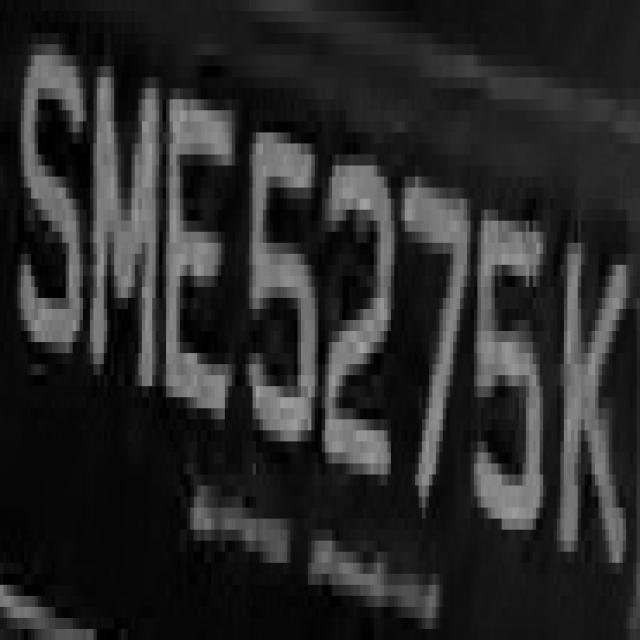2: (318, 110, 402, 552)
5: (464, 143, 550, 574), (246, 88, 322, 474)
7: (388, 132, 470, 530)
E: (166, 55, 232, 452)
K: (550, 187, 637, 607)
M: (86, 33, 162, 419)
S: (10, 22, 90, 375)
